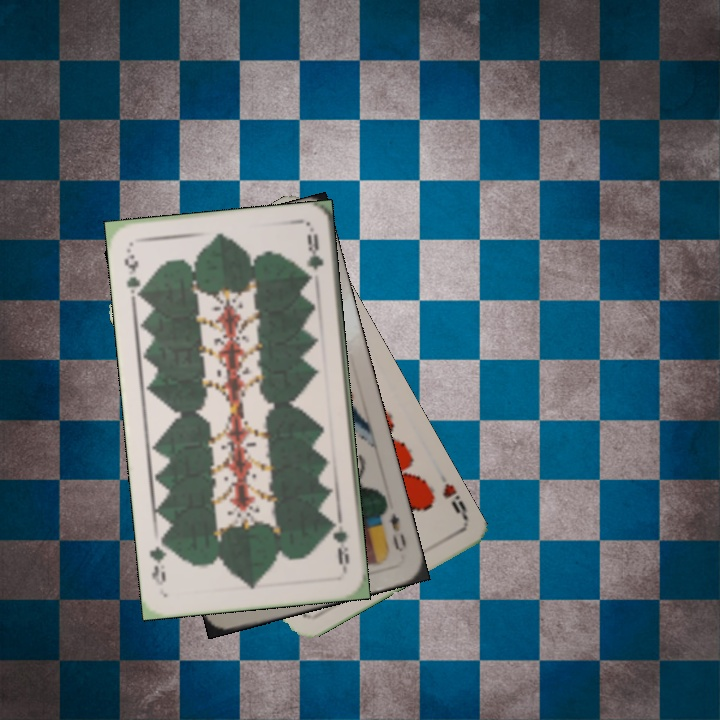EO: (375, 502, 409, 554)
G9: (120, 244, 146, 303), (327, 515, 352, 574)
H9: (438, 479, 471, 523)
